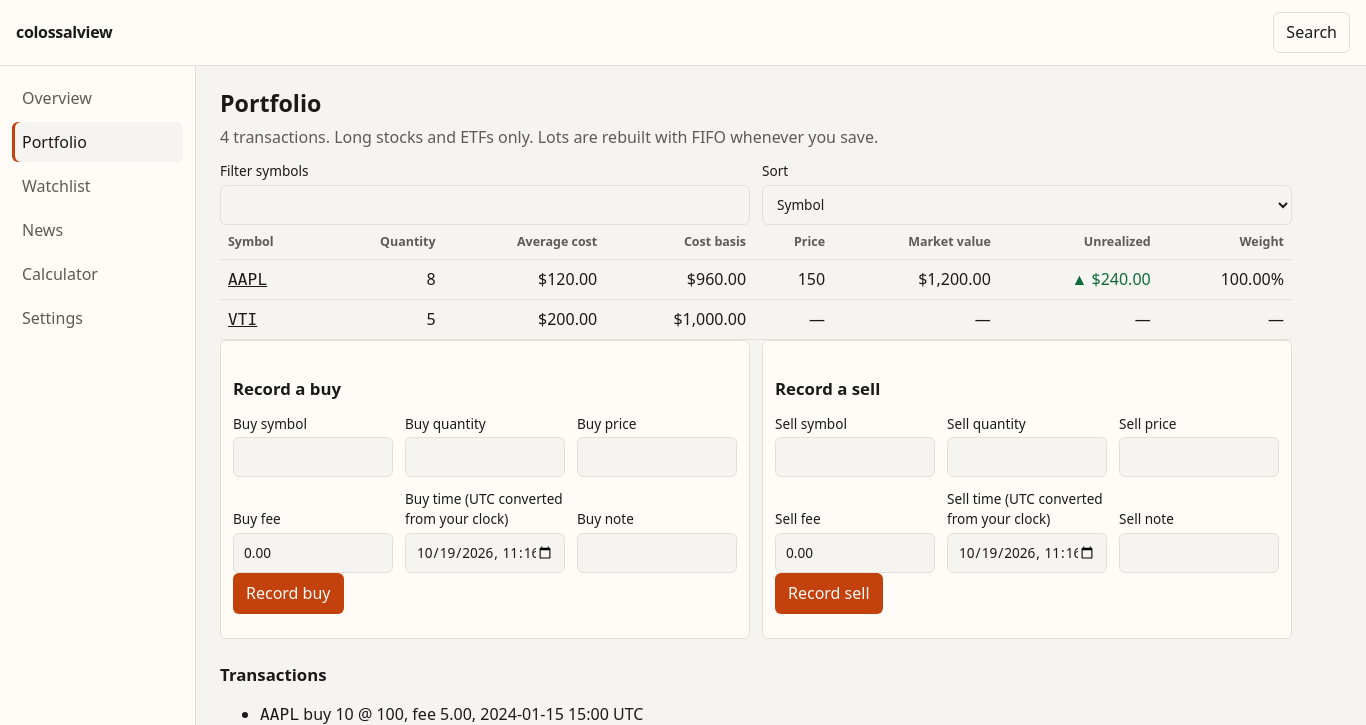
portfolio screen › shows an oversell error and does not add a transaction
Check: the text with test id "transaction-count" reads "4", box [220,126,229,148]
Step 1. Type "AAPL" into the field labelled "Sell symbol" → (855, 457), box [775,437,935,477]
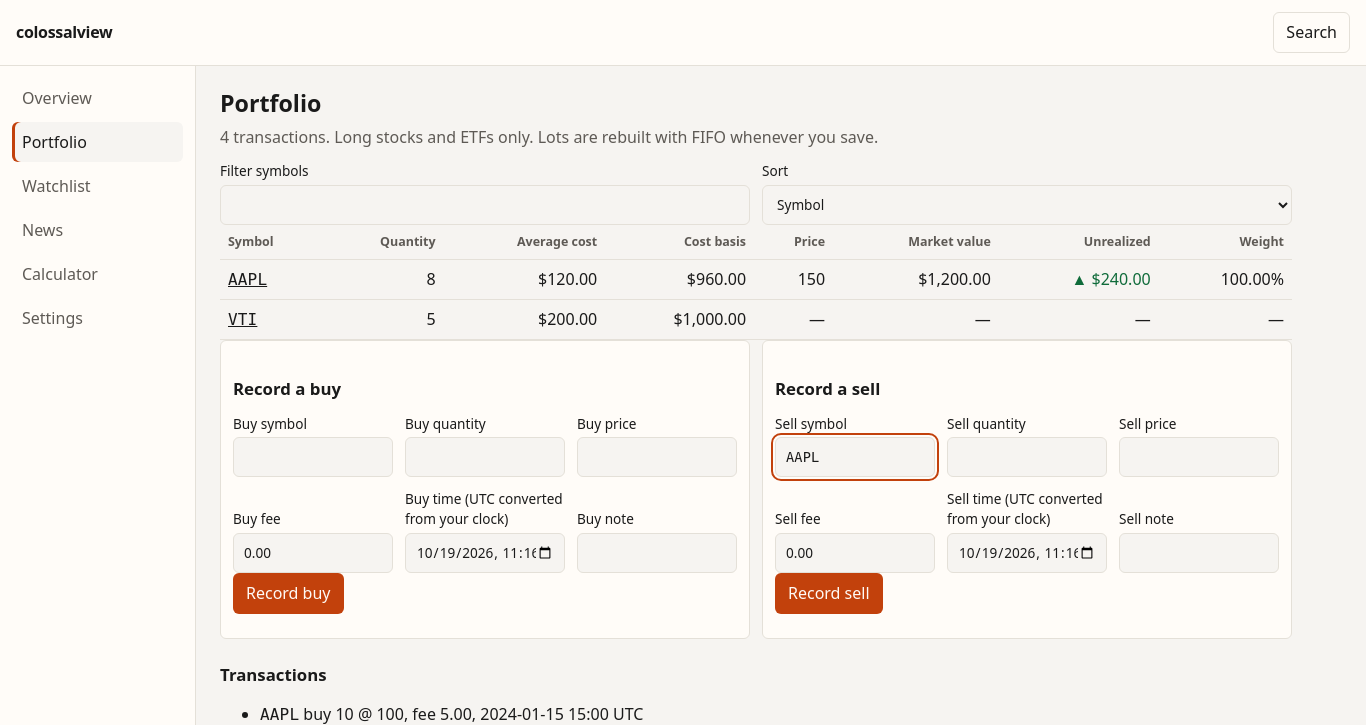
Step 2. Type "9" into the field labelled "Sell quantity" → (1027, 457), box [947,437,1107,477]
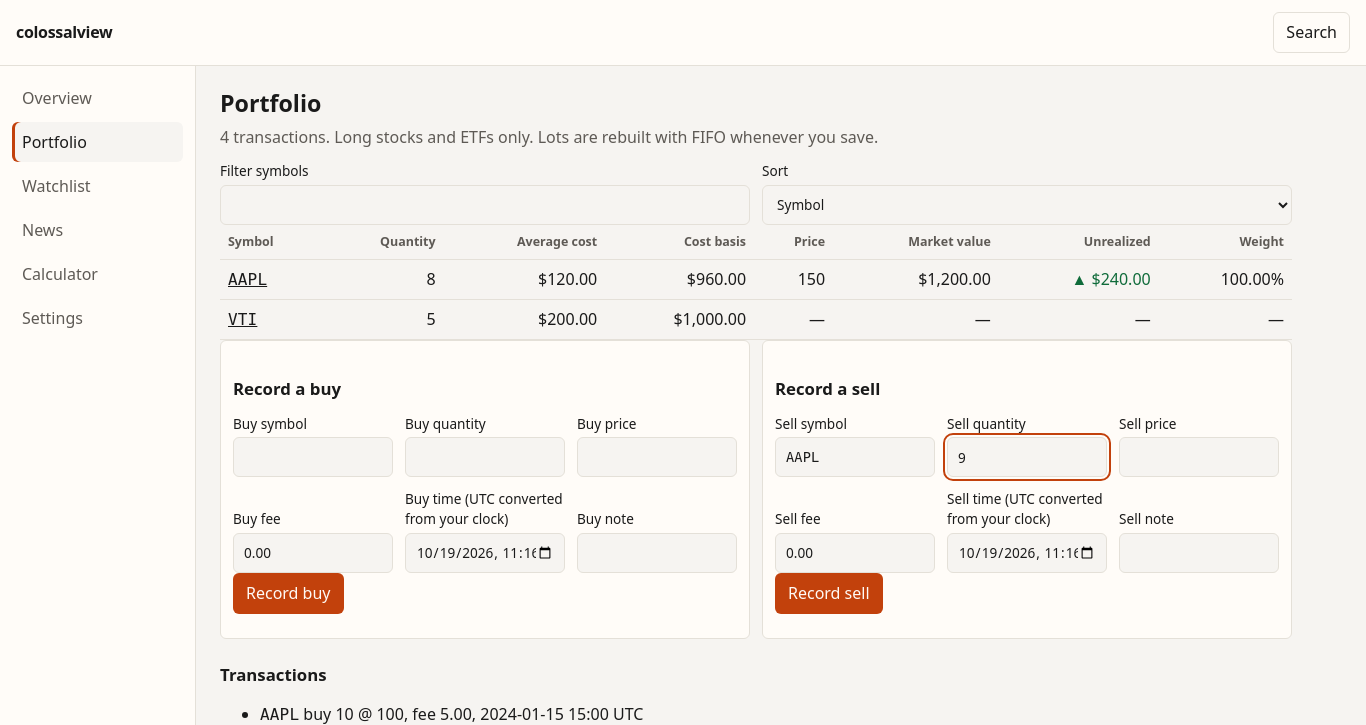
Step 3. Type "150" into the field labelled "Sell price" → (1199, 457), box [1119,437,1279,477]
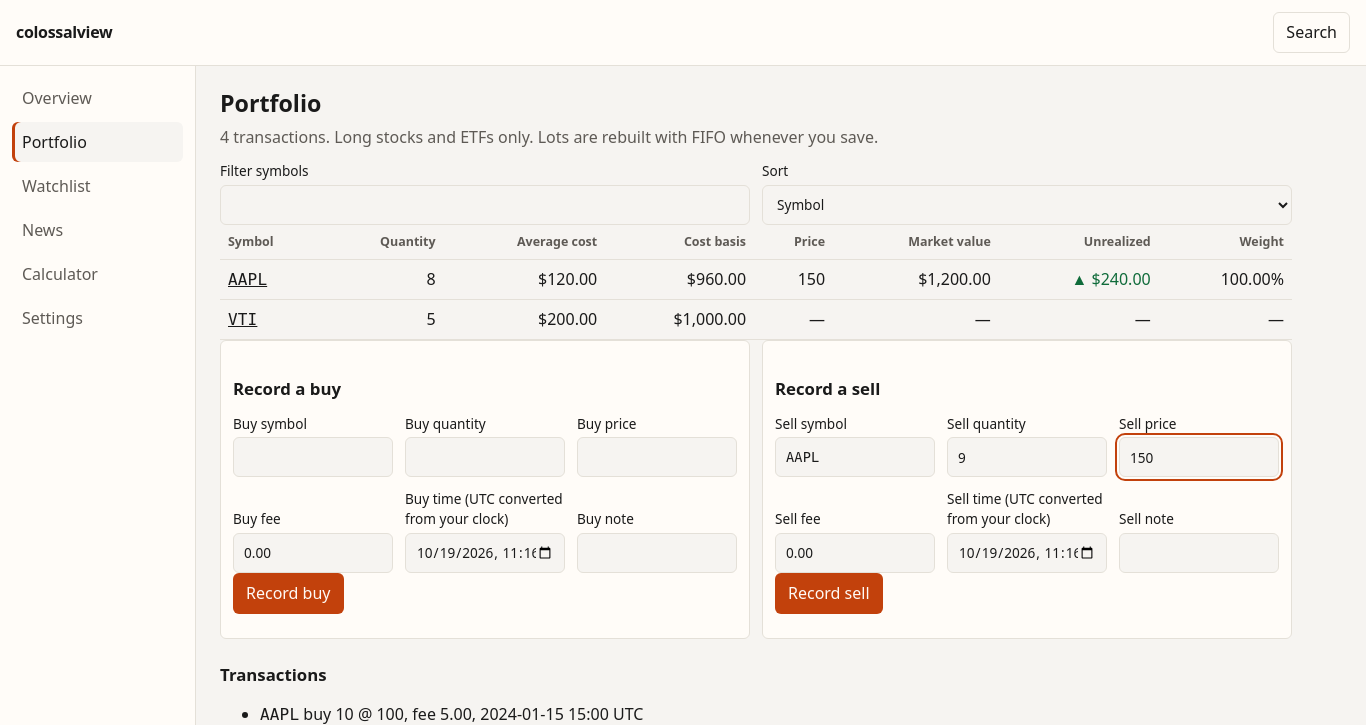
Step 4. Click the button "Record sell" → (829, 593), box [775,573,883,614]
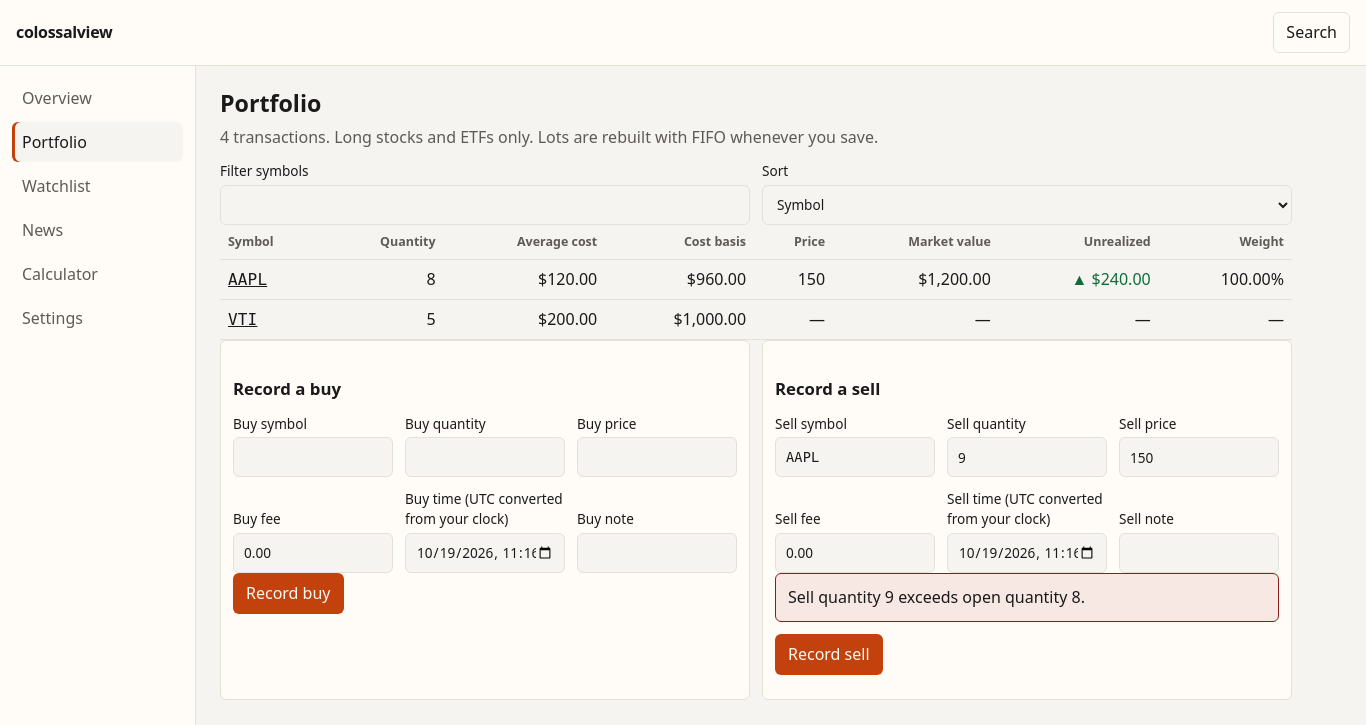
Check: the text with test id "transaction-count" reads "4", box [220,126,229,148]
Check: the message with test id "sell-error" shows "exceeds open quantity", box [788,586,1085,608]
